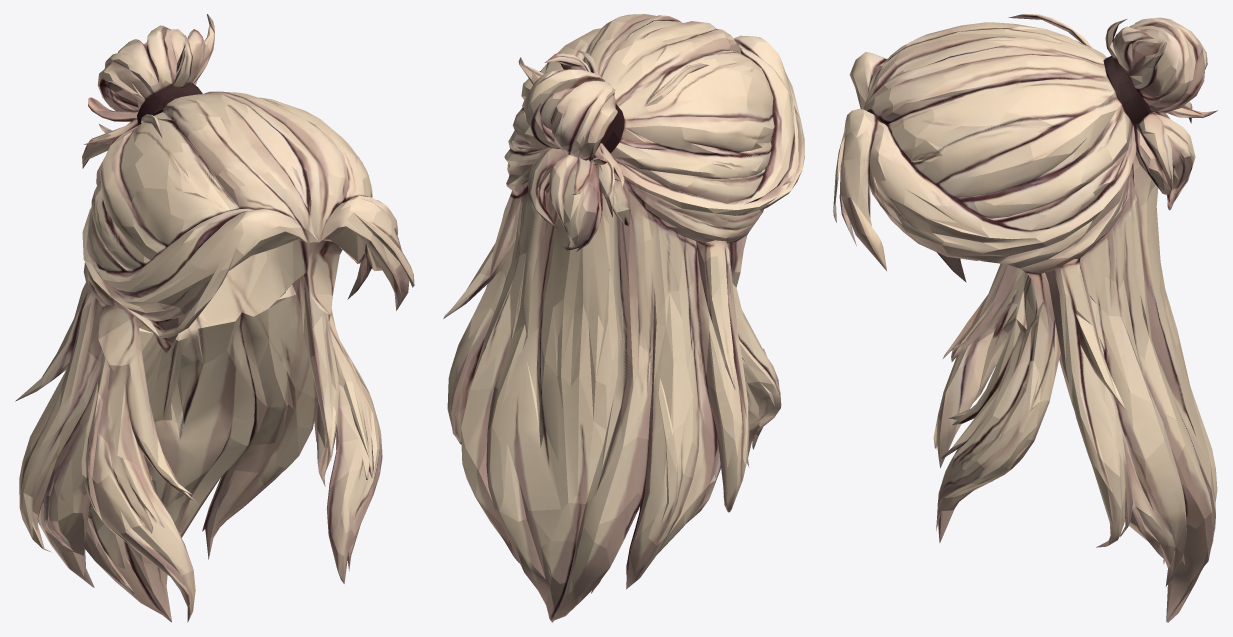
File: fennal_m-demi-chignon.glb
3 views of the same model, side by side, from view 1: azimuth 30°, elevation 25°; view 2: azimuth 150°, elevation 25°; view 3: azimuth 270°, elevation 25° (orthographic). The views are drawn at different scales.
Visible parts, largest first — view 1: geometry_0; view 2: geometry_0; view 3: geometry_0.
Part boxes in pixels (x1,y1,x2,y2): geometry_0: [15, 14, 414, 622]; geometry_0: [443, 14, 804, 622]; geometry_0: [833, 14, 1217, 622].
Bounding box in the file's own units: 1.05 × 1.9 × 1.1.
Materials: 1 (1 with a texture image).
